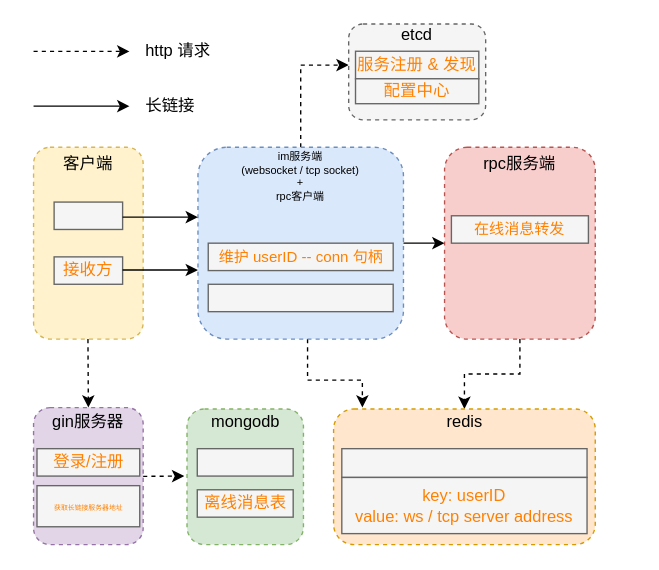
Some shapes in this 659 by 570 pixel diagram are drawn without their labels. Each missing label, with the box of its shape:
发送方: (53, 201, 123, 229)
在线消息推送 && 转发: (207, 283, 393, 312)
用户表: (196, 447, 293, 476)
维护用户在线状态: (340, 447, 587, 477)
